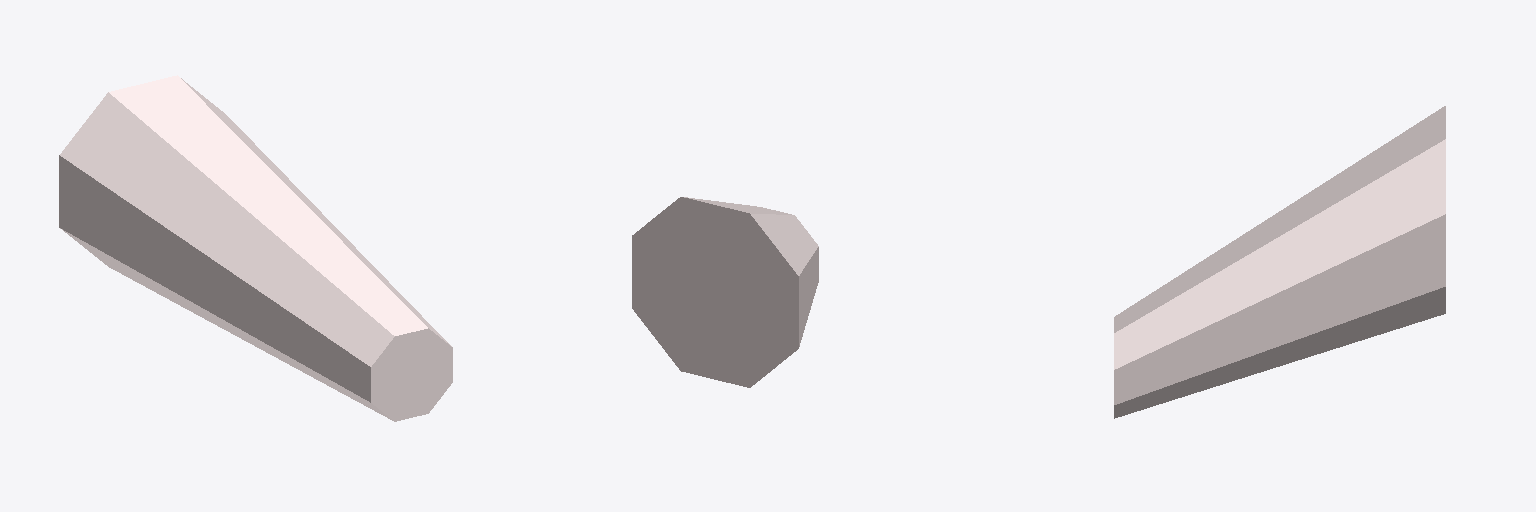
File: nest_interior_lightShaft.obj
3 views of the same model, side by side, from view 1: azimuth 30°, elevation 25°; view 2: azimuth 150°, elevation 25°; view 3: azimuth 270°, elevation 25° (orthographic).
Parts seen in each view (by area): view 1: Light_Shaft_Cylinder.004; view 2: Light_Shaft_Cylinder.004; view 3: Light_Shaft_Cylinder.004.
Boxes of the visible parts, <box> form: Light_Shaft_Cylinder.004: <box>59,75,452,421</box>; Light_Shaft_Cylinder.004: <box>632,197,818,387</box>; Light_Shaft_Cylinder.004: <box>1114,106,1445,418</box>.
Size of the model in its own units: 1.54 by 1.54 by 1.95.